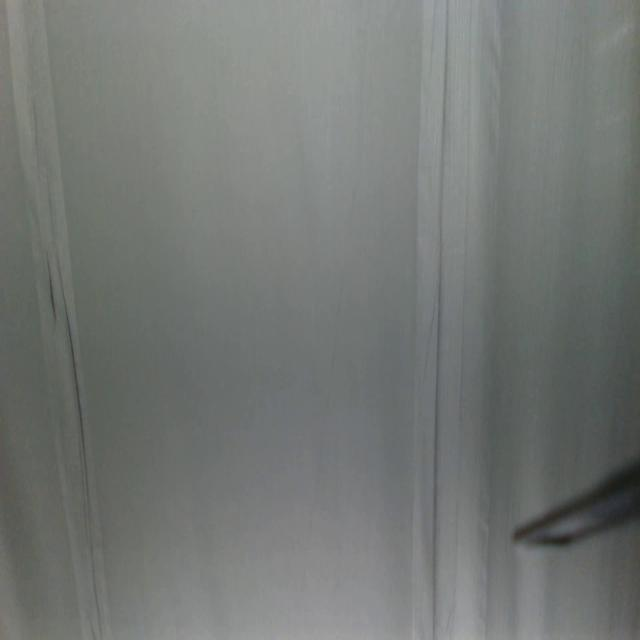crease: (6, 3, 111, 634), (414, 0, 477, 639)
